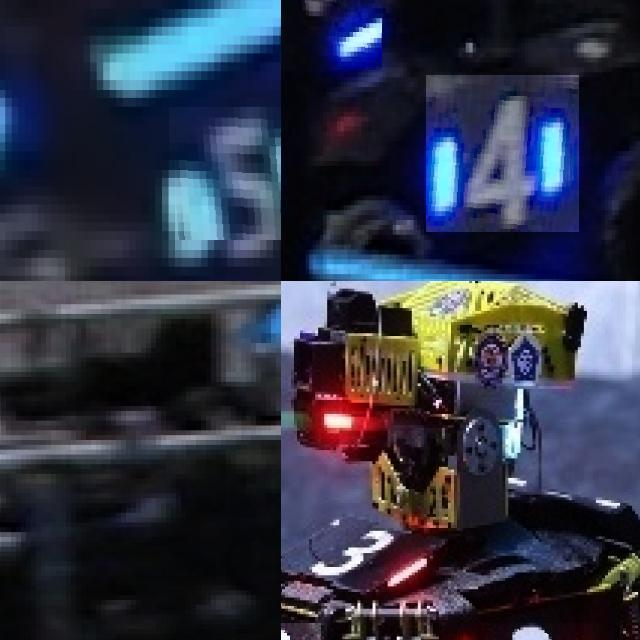B4: (426, 75, 579, 232), (281, 0, 382, 69)
B5: (168, 106, 281, 240)
